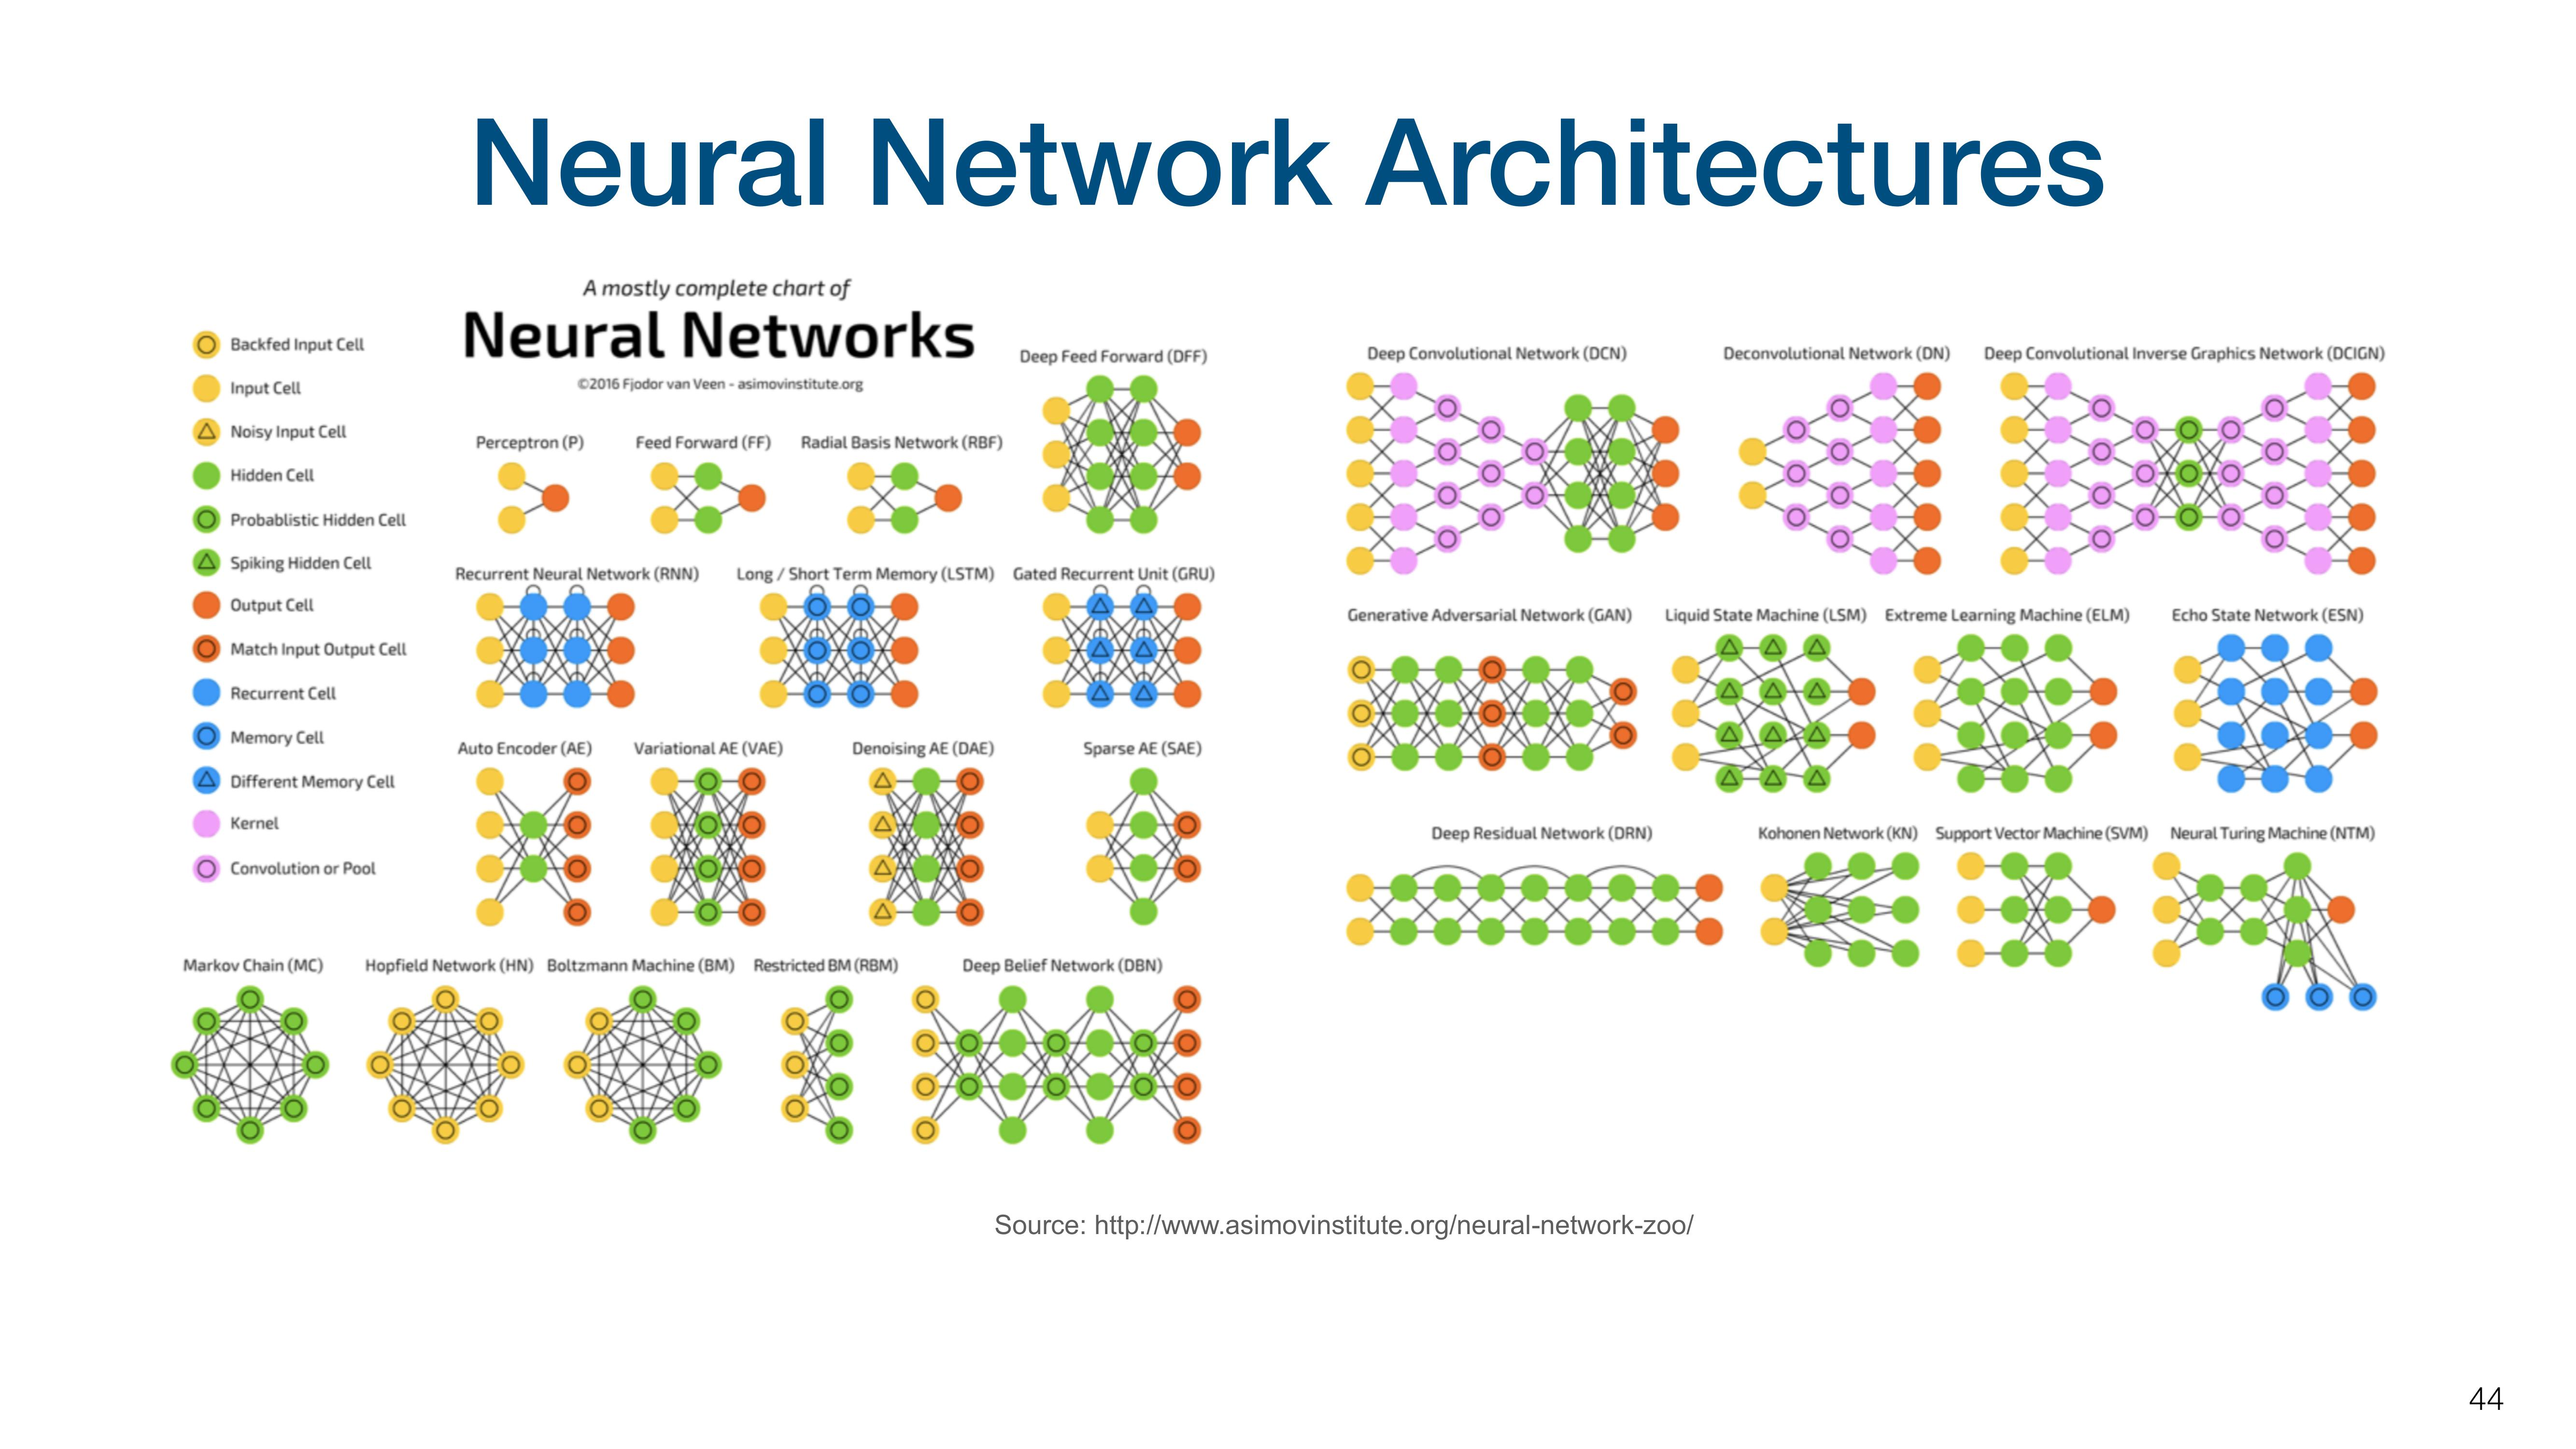Title: (432, 88, 2112, 249)
